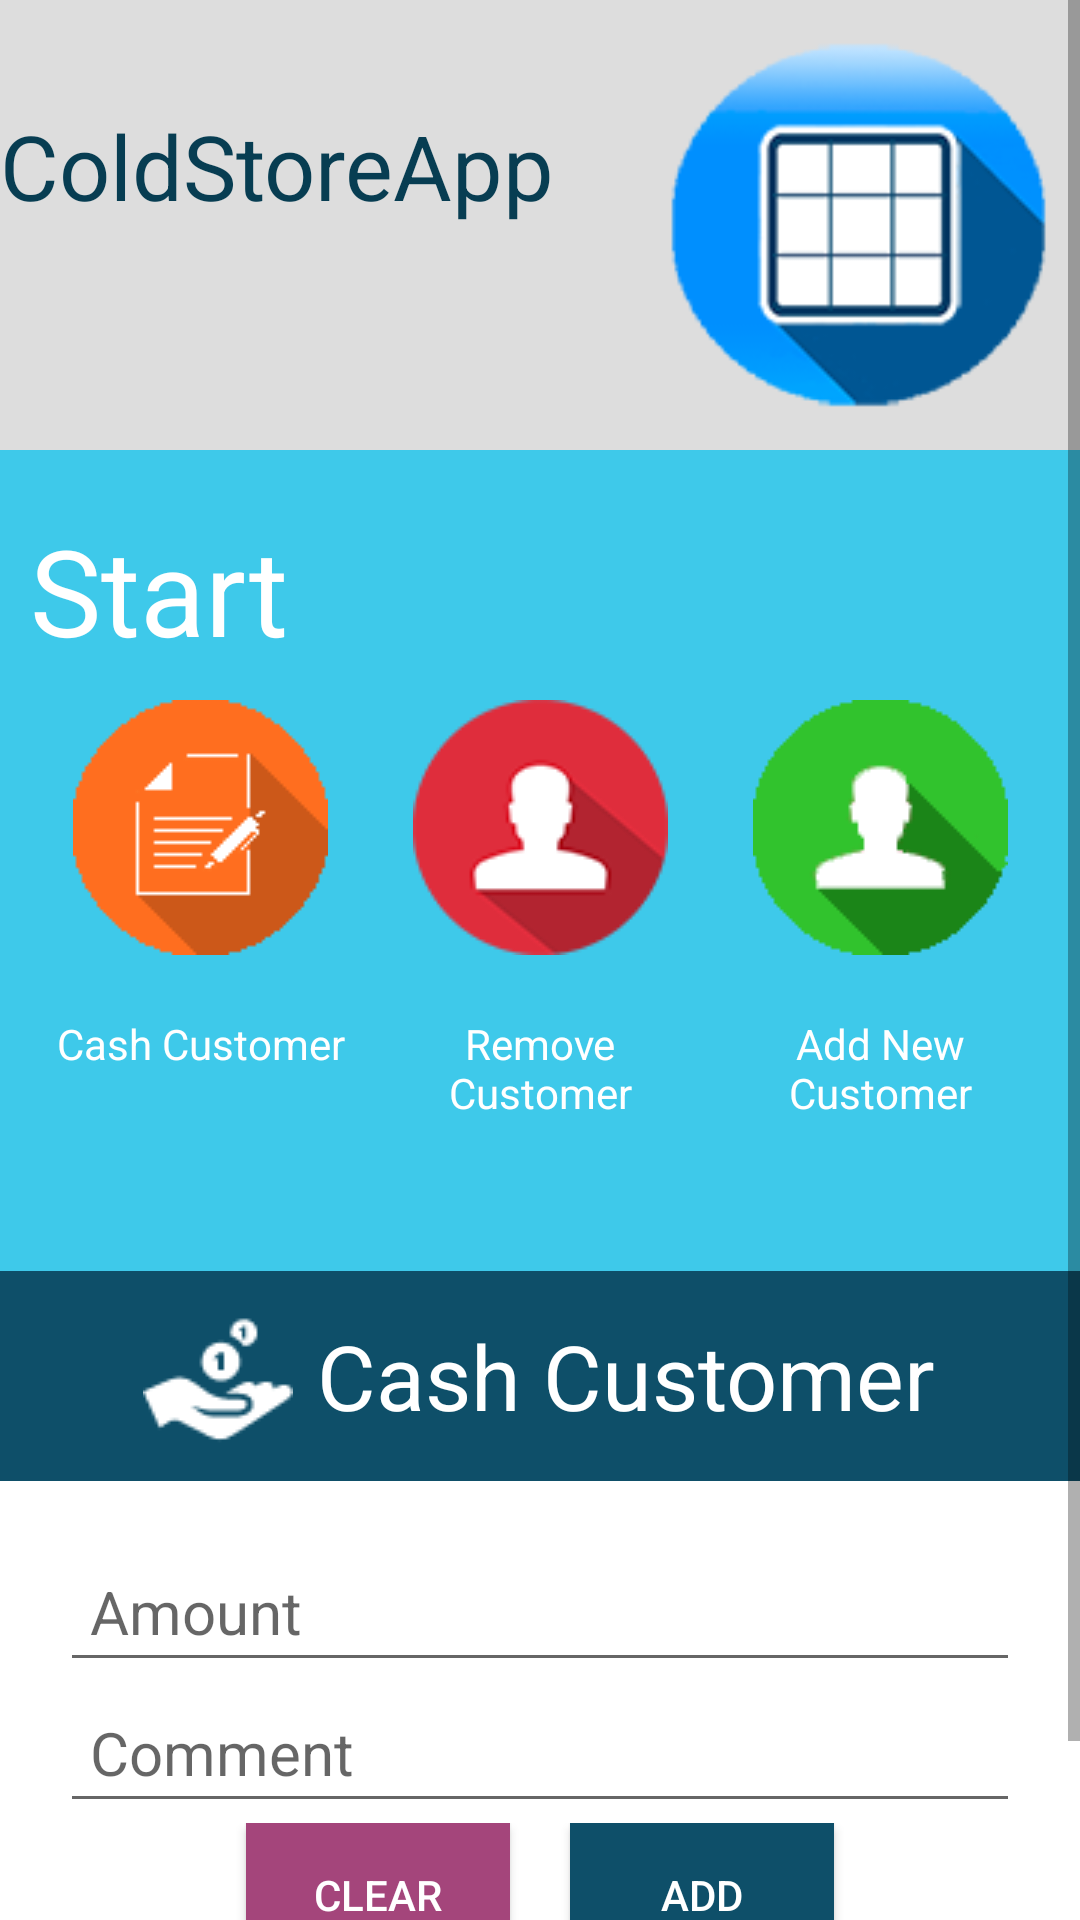

Named icons in this screenshot (1080*1920) and their centers, [x,y]:
newcash: [200,827]
